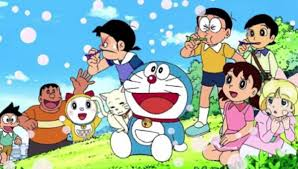doraemon: (109, 61, 194, 163)
